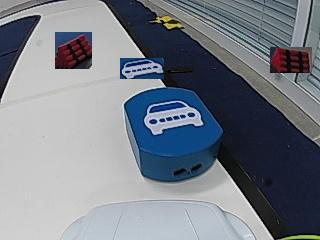safety: (143, 99, 205, 134)
